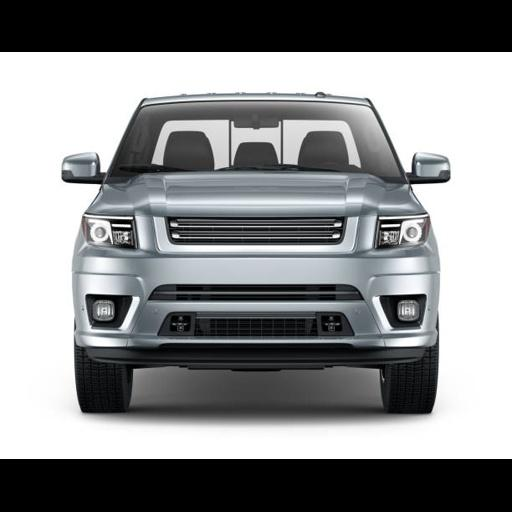truck: (61, 93, 448, 412)
